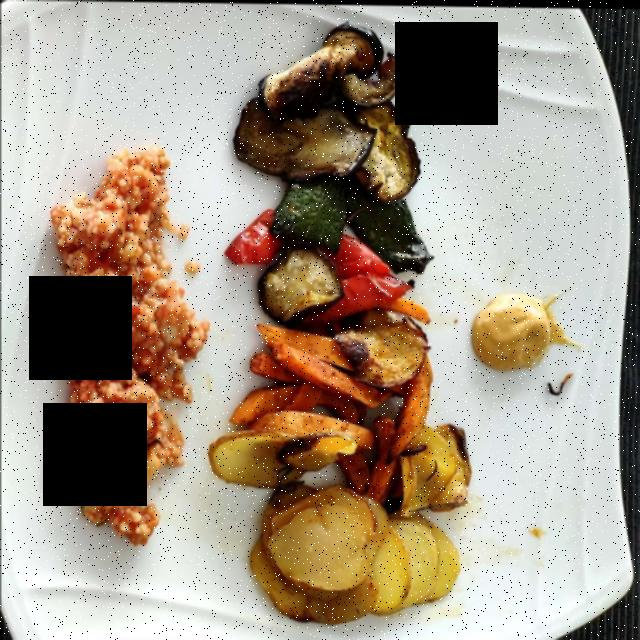baked-potato: (210, 417, 469, 629)
couscous: (49, 146, 199, 540)
mixed-vegetables: (235, 4, 435, 330)
sweet-potato: (238, 305, 437, 503)
